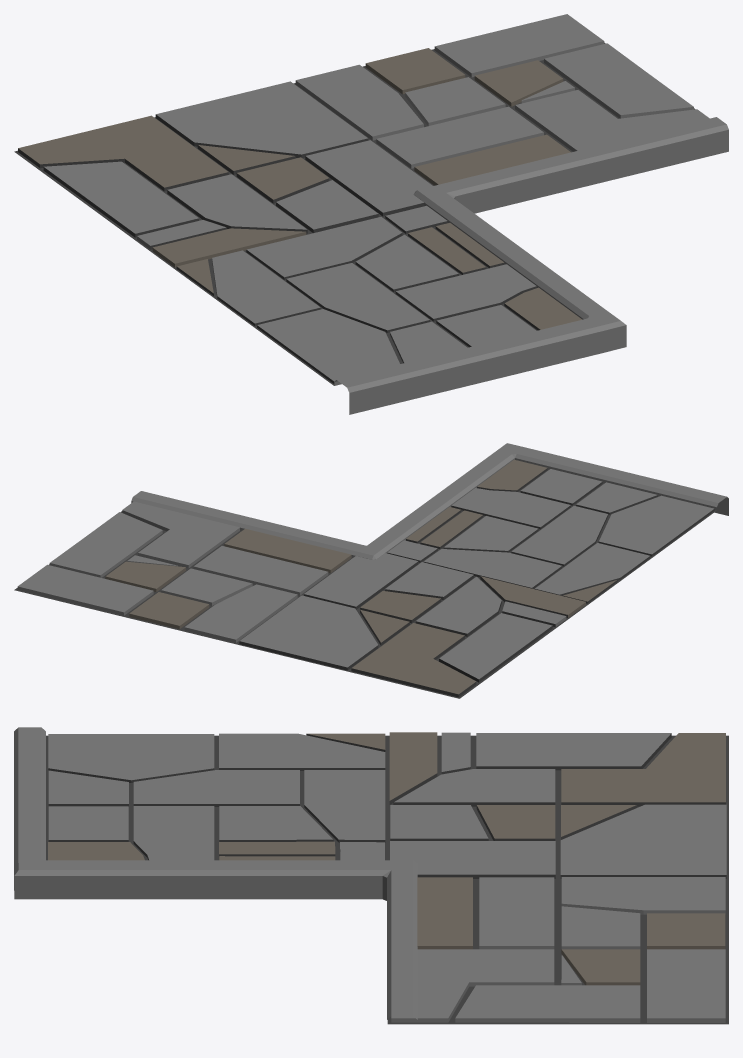
The model's file is Walkway Modern D - 2.fbx.
The picture shows the model from 3 angles, top to bottom: view 1: azimuth 30°, elevation 25°; view 2: azimuth 150°, elevation 25°; view 3: azimuth 270°, elevation 25°; orthographic projection. The views are drawn at different scales.
Visible parts, largest first — view 1: Walkway Modern D - 2.001; view 2: Walkway Modern D - 2.001; view 3: Walkway Modern D - 2.001.
Boxes of the visible parts, <box> form: Walkway Modern D - 2.001: <box>14,14,728,414</box>; Walkway Modern D - 2.001: <box>14,443,728,698</box>; Walkway Modern D - 2.001: <box>14,727,728,1024</box>.
Size of the model in its own units: 610 by 638 by 27.01.
